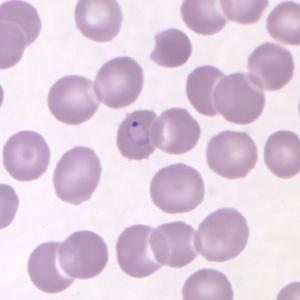Infected: (116, 107, 162, 162)
Uninfected: (195, 207, 251, 261), (53, 146, 102, 205), (115, 224, 166, 280), (148, 164, 204, 215), (212, 70, 264, 122), (187, 64, 236, 119), (206, 129, 258, 180), (47, 76, 103, 123), (27, 243, 78, 294), (93, 56, 143, 108), (245, 43, 295, 94), (58, 231, 109, 280), (149, 219, 200, 268), (4, 129, 49, 182), (151, 107, 201, 154), (75, 0, 122, 41), (266, 130, 300, 181), (0, 0, 40, 43), (179, 0, 228, 34), (265, 0, 300, 46), (150, 29, 191, 67), (0, 18, 26, 71)
